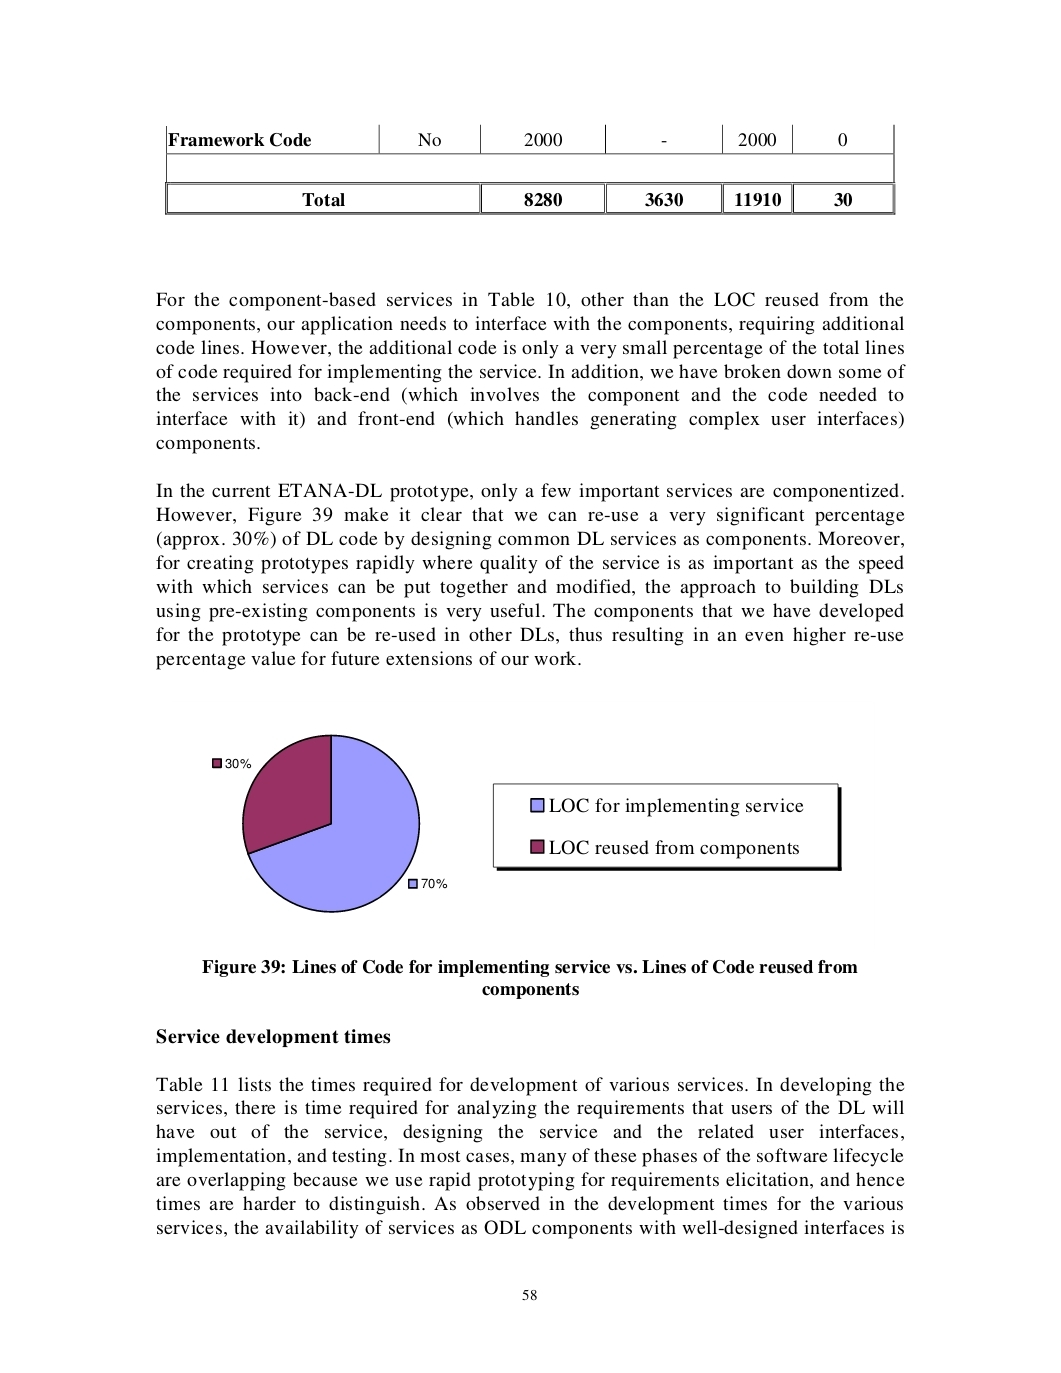Table: (165, 123, 895, 215)
figure: (212, 732, 841, 913)
